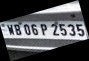character: (75, 23, 85, 36), (67, 23, 76, 36), (50, 23, 59, 35), (58, 23, 67, 35), (30, 23, 38, 36), (6, 23, 14, 35), (13, 23, 21, 35), (23, 23, 31, 35), (39, 23, 47, 34)
